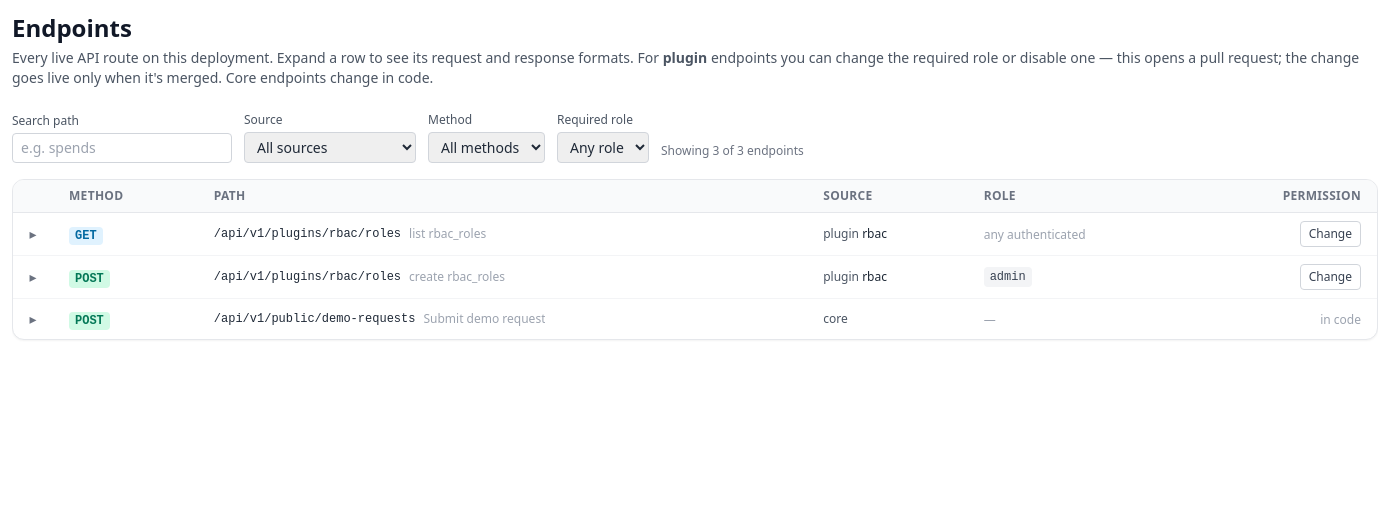
Test: EndpointsPage › offers the live group list, including groups outside the built-in list
The width and height of the screenshot is (1378, 526).
Step 1. Click the button "Change" in the row of "GET" → click(1330, 234), box [1300,221,1361,247]
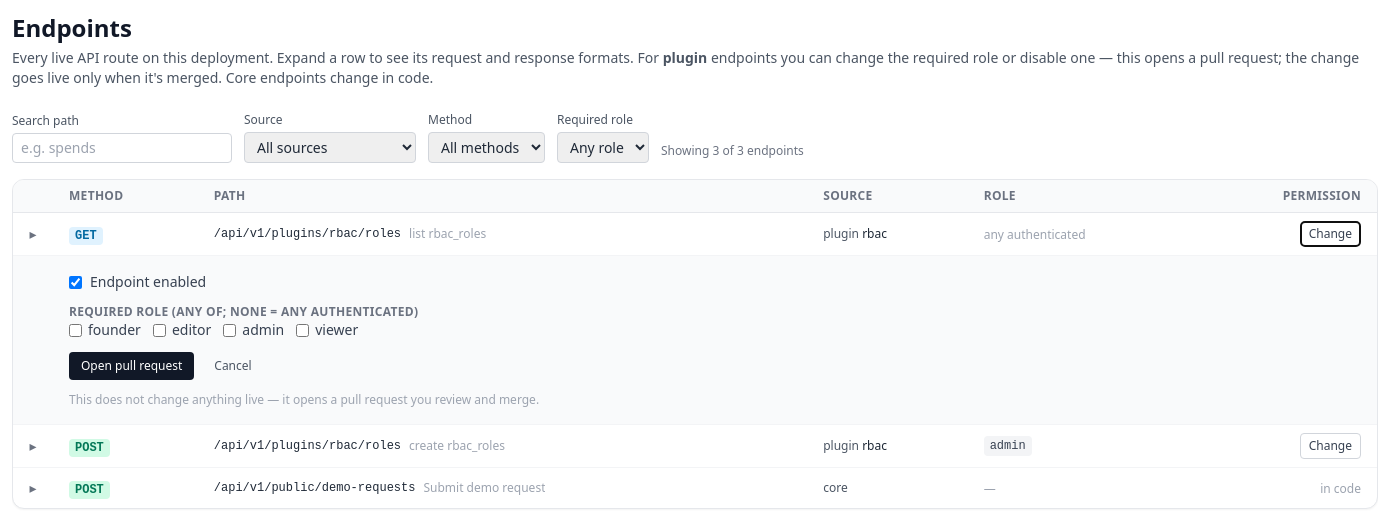
Now the checkbox labelled "founder" is shown, box [69,324,82,336]
Now the number of buttons "Cancel" is 1, box [202,352,264,380]
